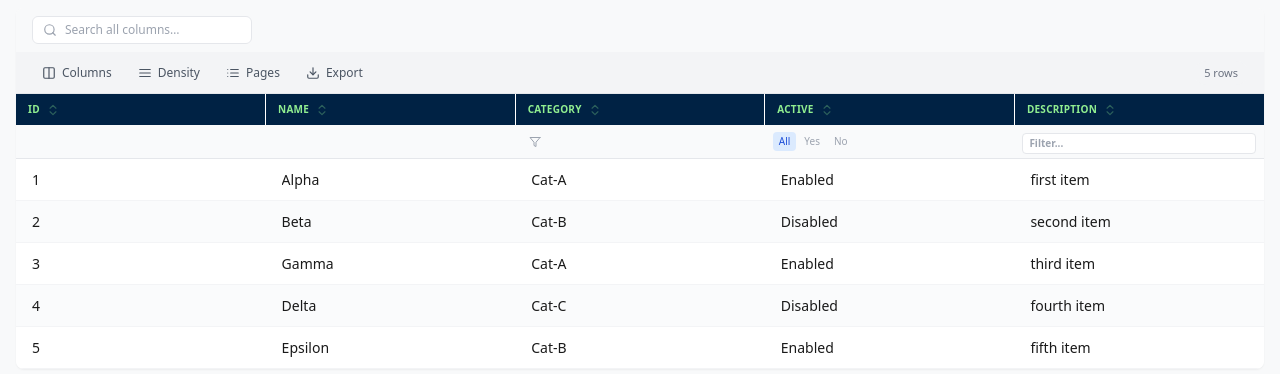
Test: DataTable with column filters › FacetFilter opens dropdown, shows values with counts, and filters on check
Note: Click to open the dropdown
Click the 5th button at [535, 142], box [523, 134, 547, 150]
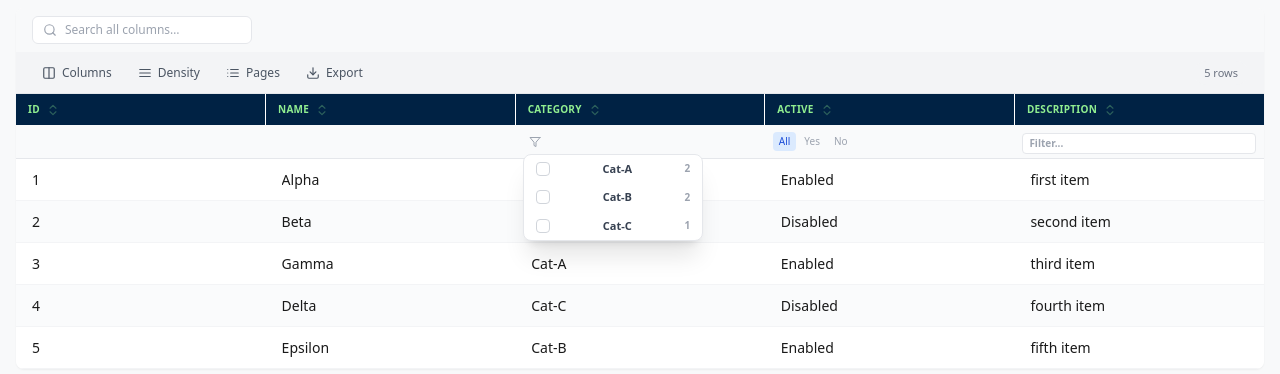
Expected: the checkbox labelled "Cat-A 2" is shown
Click the checkbox labelled "Cat-A 2" at [613, 168], box [536, 160, 690, 176]
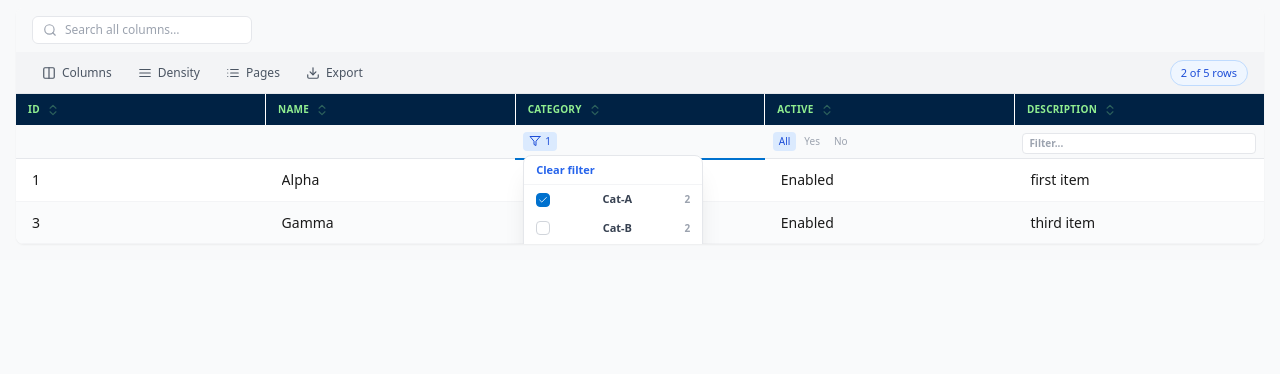
Expected: the text "Alpha" is shown, [282, 170, 319, 189]
Expected: the text "Beta" is gone
Expected: the text "Delta" is gone
